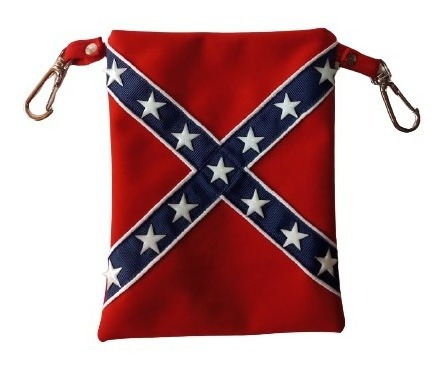cartera: (97, 27, 347, 343)
